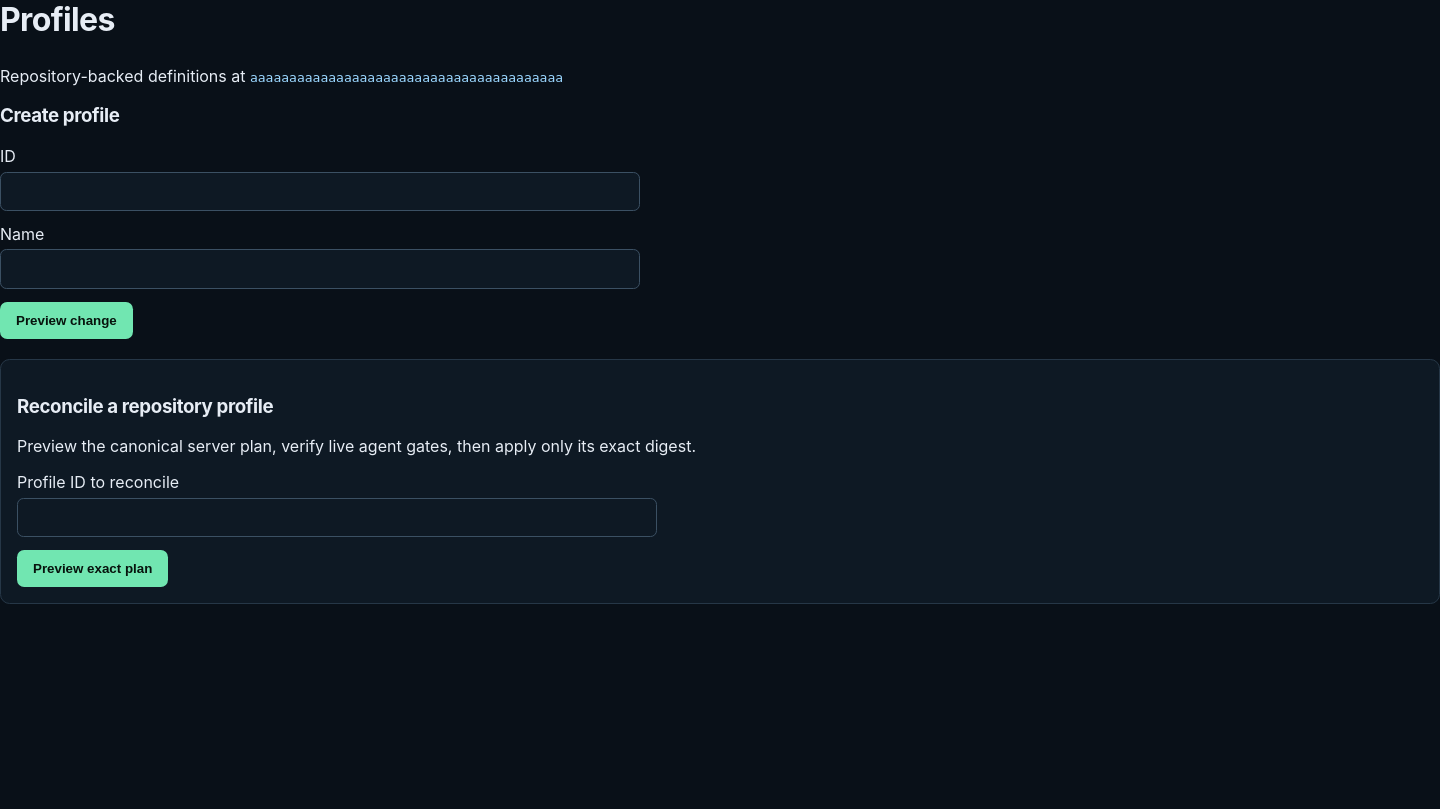
Test: loads the profile-scoped server plan and fleet gates without local planning
The image size is (1440, 809).
Type "production-agents" into the field labelled "Profile ID to reconcile" at (337, 518), box [17,498,657,537]
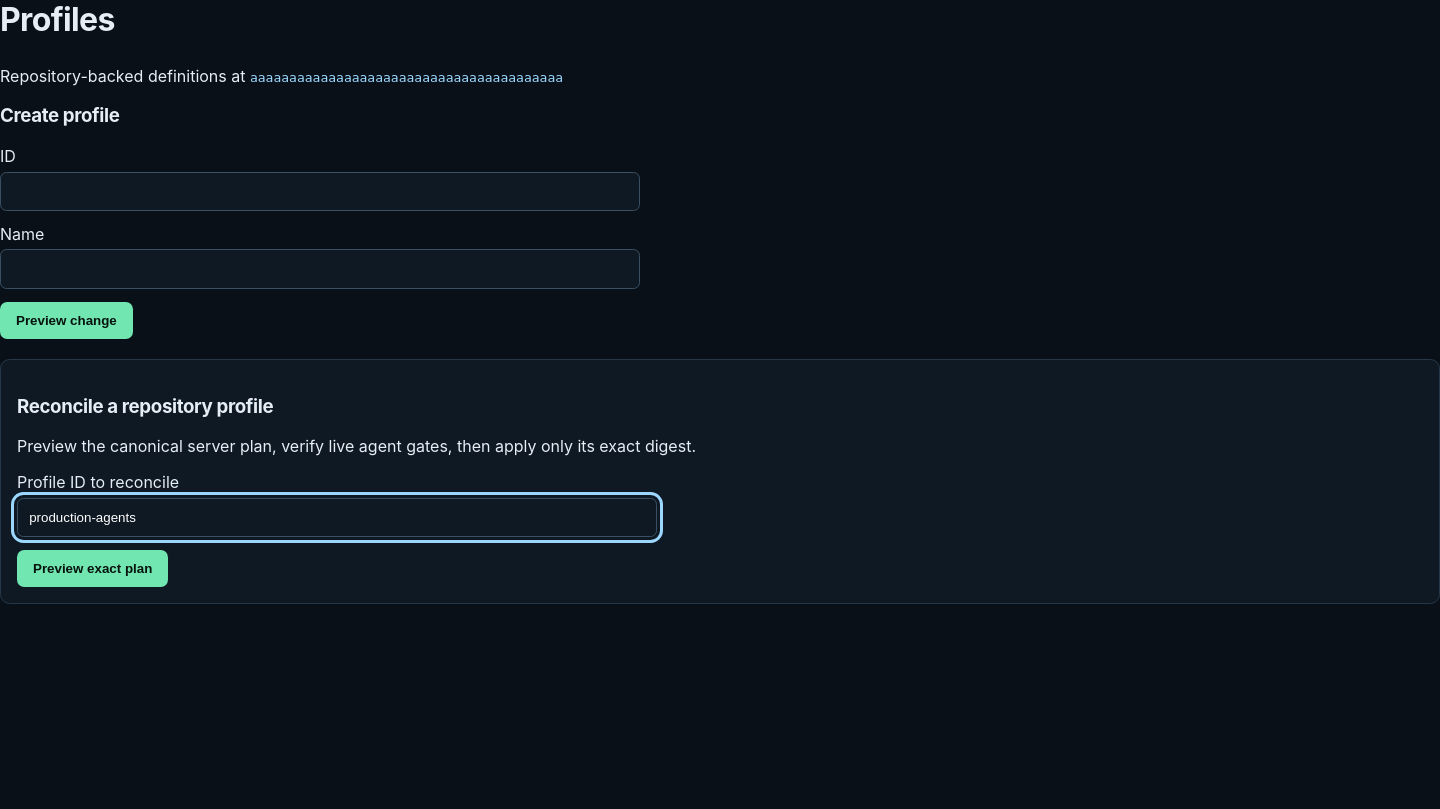
Click the button "Preview exact plan" at (93, 569), box [17,550,168,588]
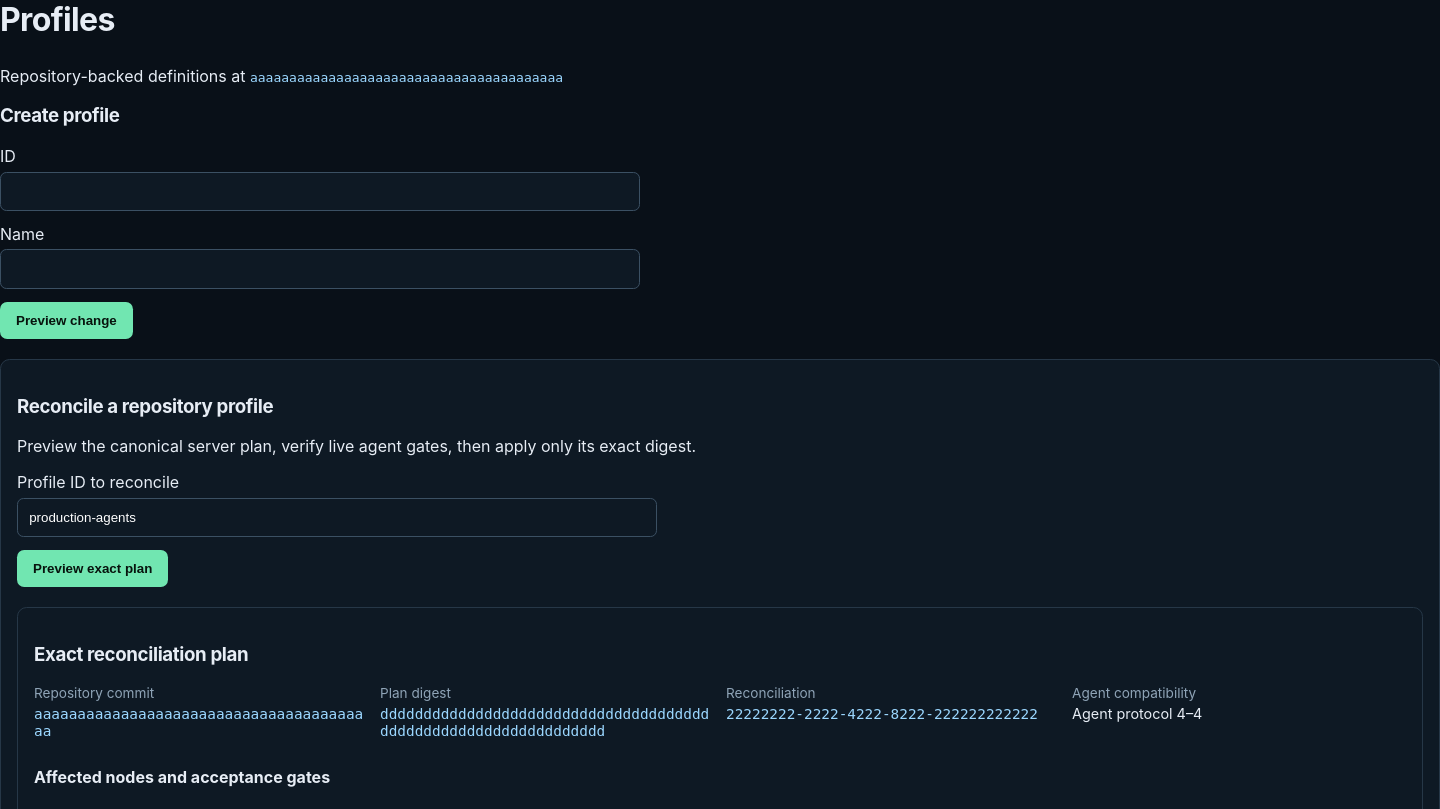
Now the text "dddddddddddddddddddddddddddddddddddddddddddddddddddddddddddddddd" is shown, box [380,706,709,739]
